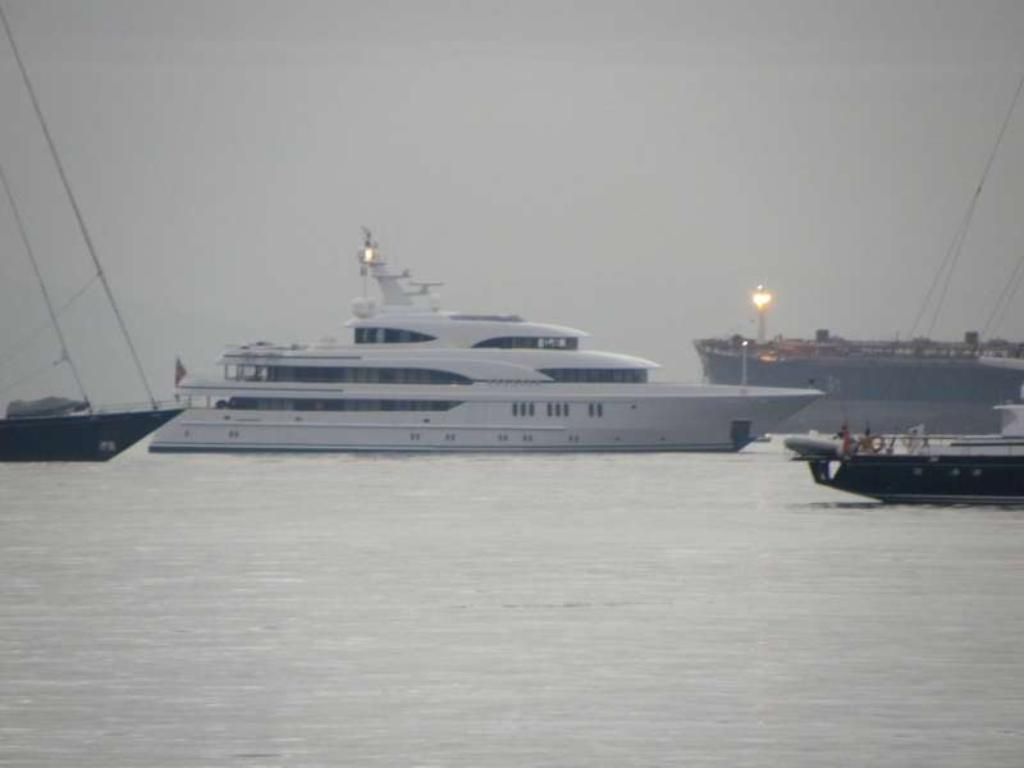PassengerShip: (140, 219, 826, 463), (780, 396, 1024, 516), (0, 381, 184, 471)
